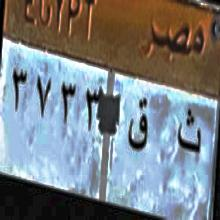3: (57, 74, 76, 132), (83, 82, 101, 139), (12, 58, 29, 118)
7: (33, 70, 52, 128)
qaaf: (128, 91, 150, 161)
thaa: (177, 98, 202, 163)
